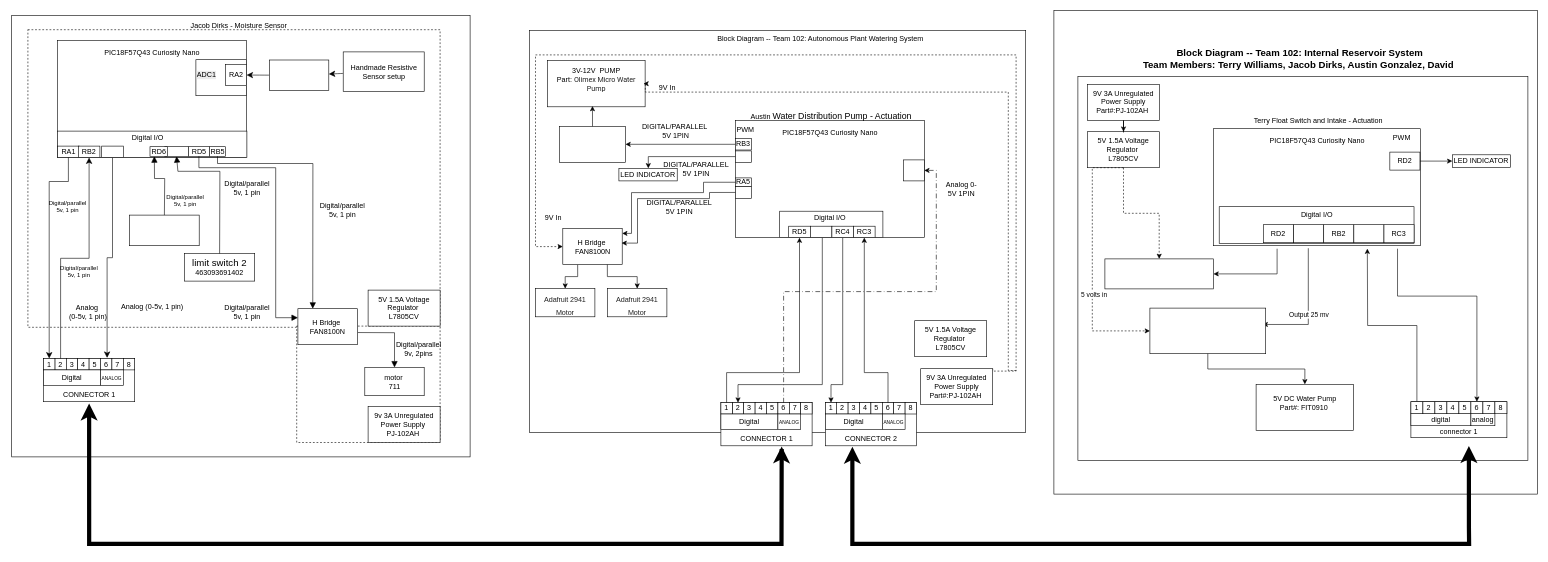
The diagram is 1548 pixels wide and 562 high, and some of its shapes have lost their labels. The box of each missing label's shape, as (x1, y1, x2, y2) in pixels:
CIT Relay and Switch Part#: 2449-J1021CS324VDC.20-ND: (1149, 308, 1266, 354)
Float Switch Part # 59630-1-T-02-F: (1104, 258, 1214, 289)
limit switch 1 463093691402: (129, 214, 199, 246)
MOSFET Part: AOFT2618: (559, 126, 626, 162)
Op-Amp MCP6004: (269, 59, 329, 91)
RA0: (903, 159, 924, 181)
RA3: (735, 150, 752, 162)
RA6: (735, 186, 752, 198)
RC7: (1353, 224, 1384, 243)
RD1: (1293, 224, 1324, 243)
RD7: (164, 146, 188, 156)
RF0: (101, 146, 123, 158)
RF2: (810, 226, 832, 238)
